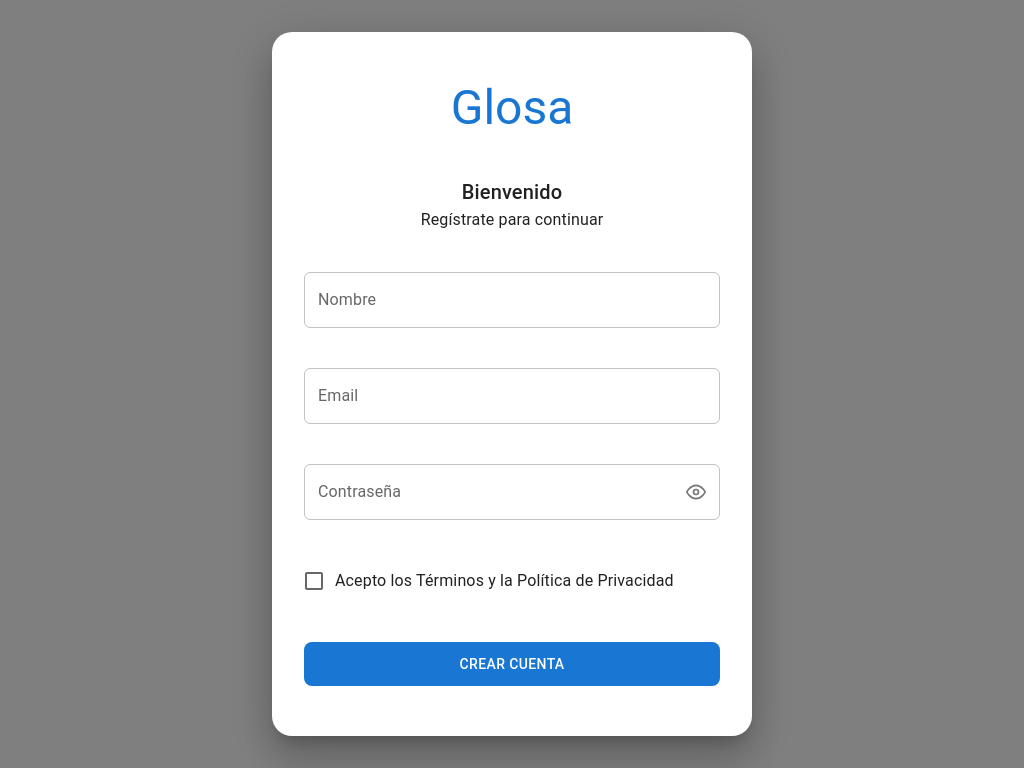
Test: Given the register page › When the user submits without accepting the terms › Then an error is shown and no request is sent
The image size is (1024, 768).
Type "Isa" into the field labelled "Nombre" at (512, 300), box x1=304 y1=272 x2=720 y2=328
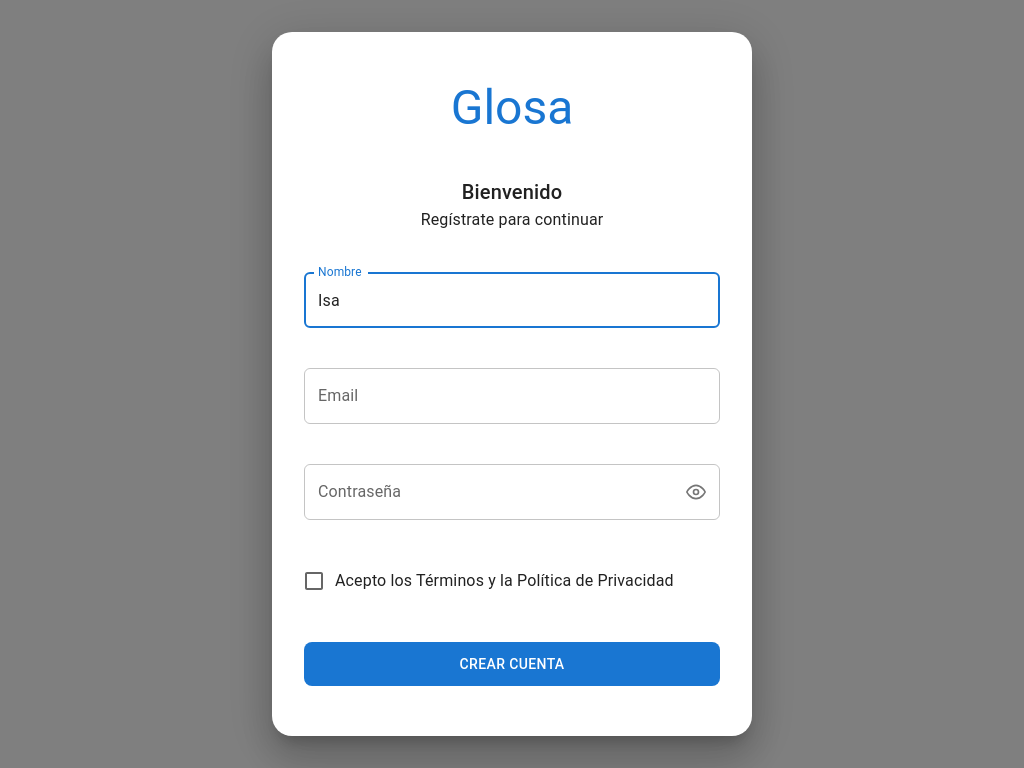
Type "isa@example.com" into the field labelled "Email" at (512, 396), box x1=304 y1=368 x2=720 y2=424
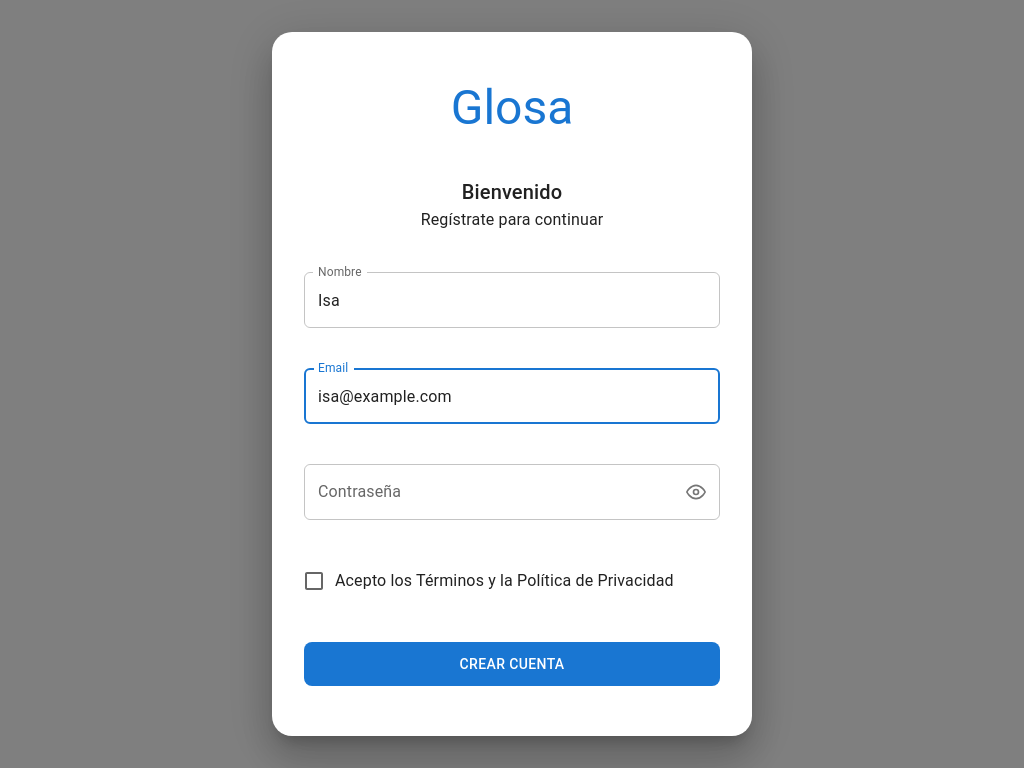
Type "Secreta1!" into the password field labelled "Contraseña" at (485, 492), box x1=304 y1=464 x2=666 y2=520
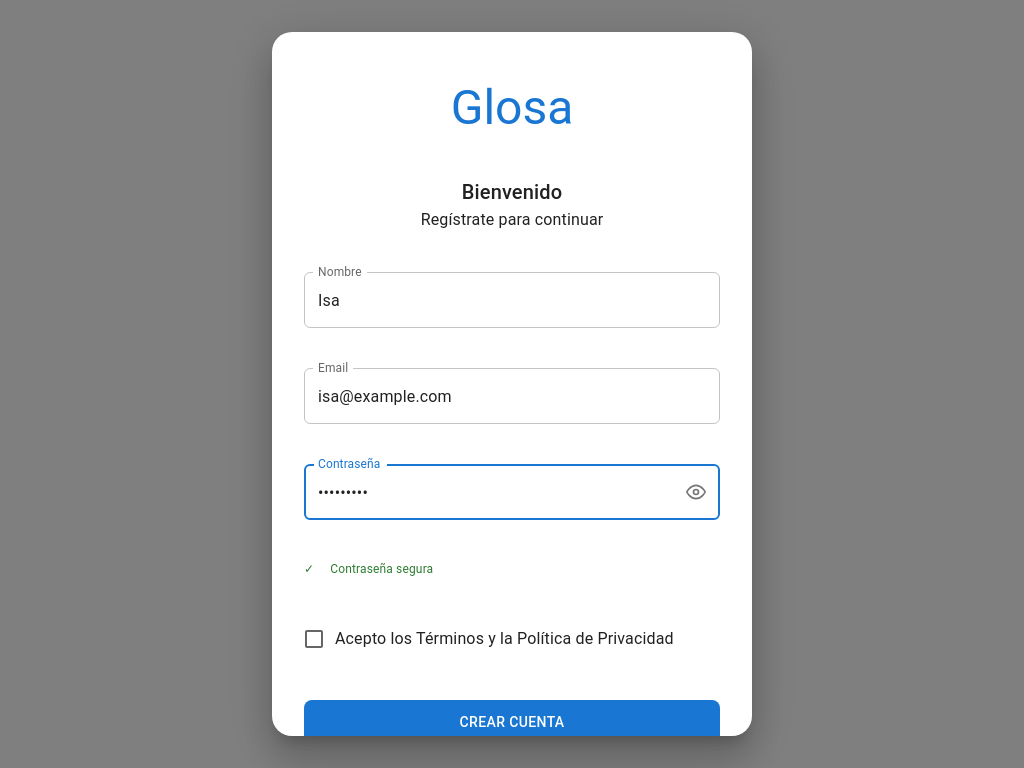
Click the button "Crear cuenta" at (512, 722), box x1=304 y1=700 x2=720 y2=744
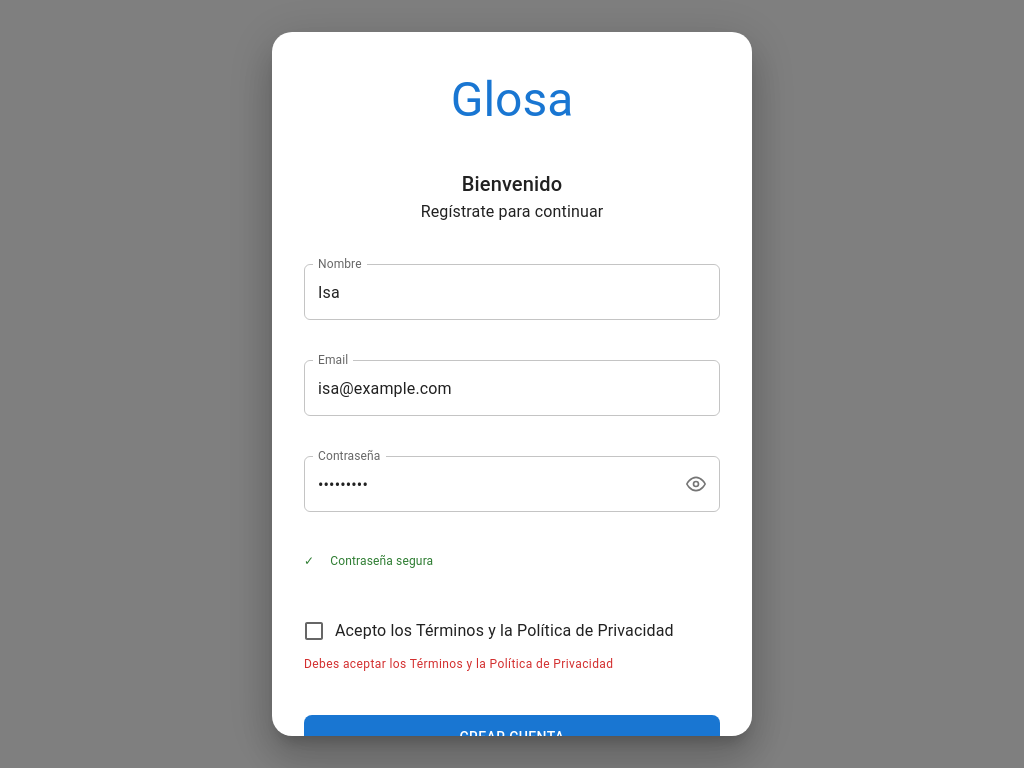
Check: the text "Debes aceptar los Términos y la Política de Privacidad" is shown, box x1=304 y1=657 x2=613 y2=671
